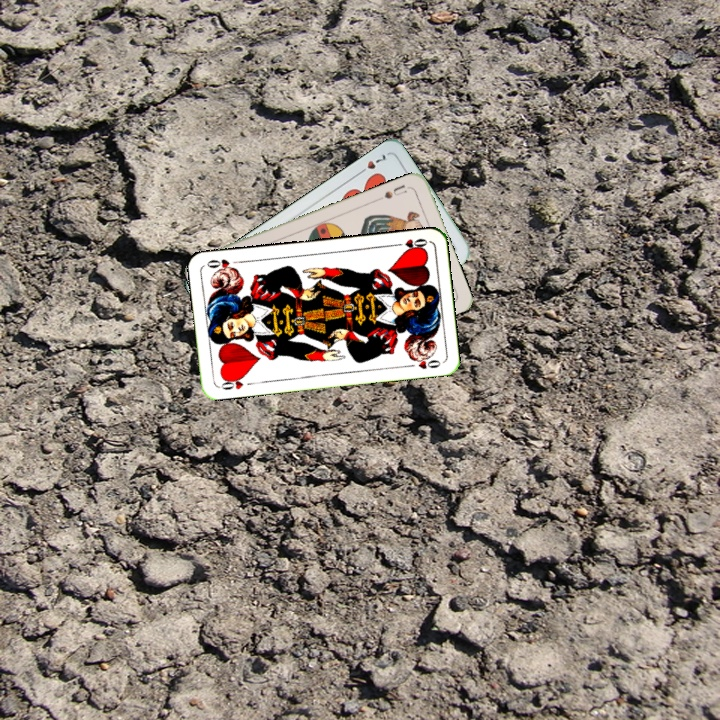H7: (354, 150, 390, 177)
HO: (390, 234, 430, 253), (216, 372, 247, 392)
SU: (374, 181, 413, 203)
